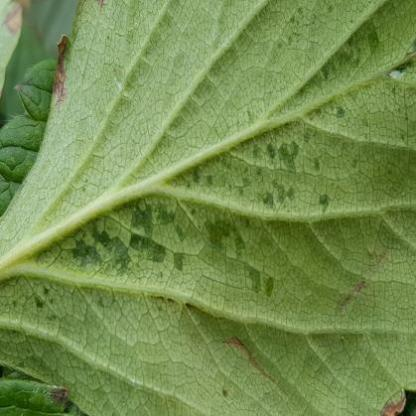Strawberry_Angular_LeafSpot: (0, 0, 415, 336)
